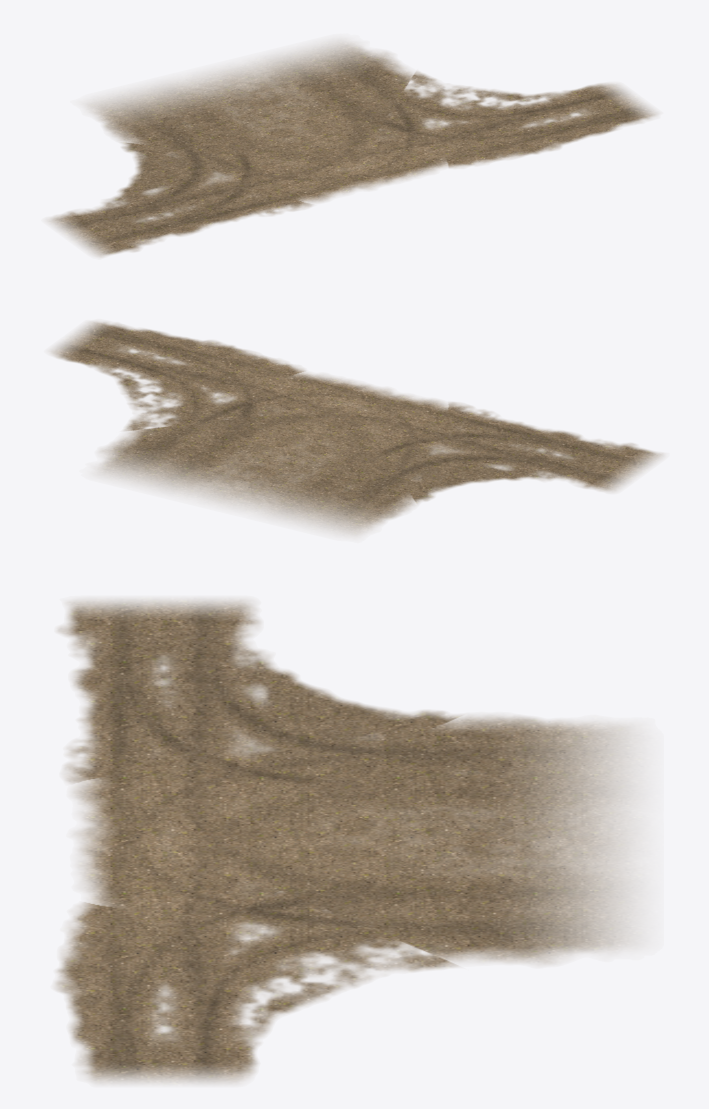
The model's file is road_tee_drive_main.glb.
3 views of the same model, one above another, from view 1: azimuth 30°, elevation 25°; view 2: azimuth 150°, elevation 25°; view 3: azimuth 270°, elevation 25° (orthographic). The views are drawn at different scales.
Parts seen in each view (by area): view 1: road_tee_drive_main; view 2: road_tee_drive_main; view 3: road_tee_drive_main.
Boxes of the visible parts, box(x1,y1,x2,y2) form: road_tee_drive_main: box(48, 41, 657, 256); road_tee_drive_main: box(50, 321, 663, 535); road_tee_drive_main: box(55, 600, 634, 1082).
Bounding box in the file's own units: 21.88 × 0 × 12.44.
1 material, 1 textured.
